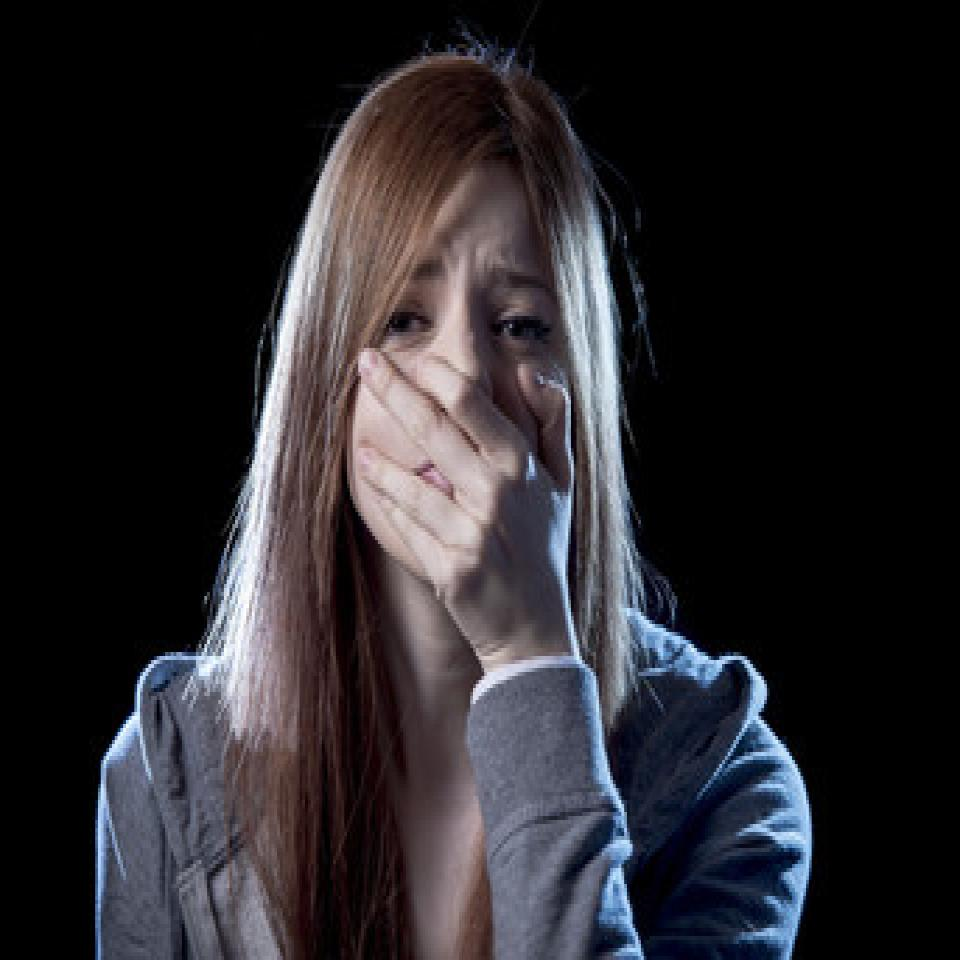Scared: (343, 211, 581, 583)
